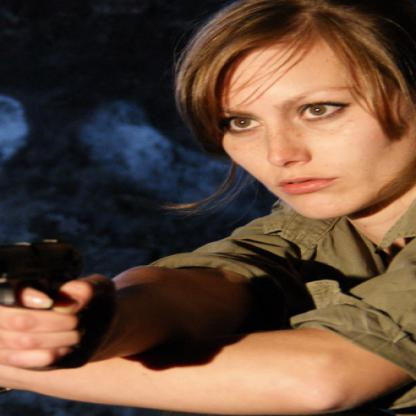gun: (0, 237, 91, 311)
